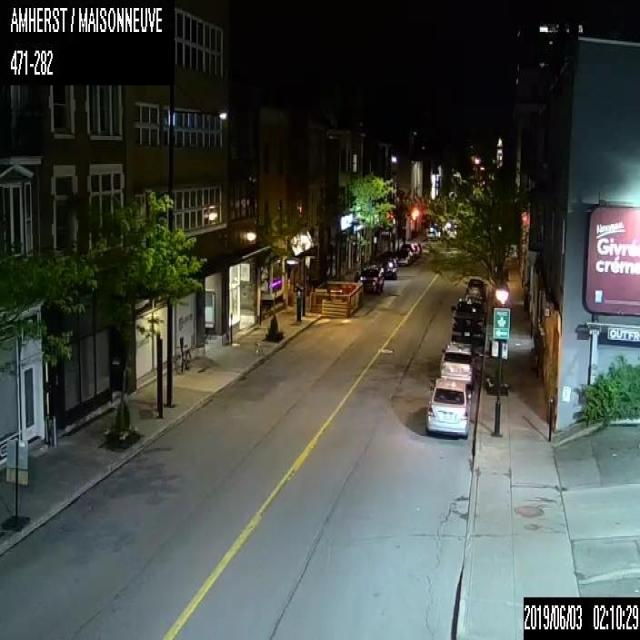vehicle: (426, 377, 470, 437), (449, 296, 486, 342), (439, 341, 478, 383), (358, 264, 383, 294), (464, 276, 487, 298), (381, 258, 397, 278), (396, 247, 412, 264), (464, 293, 482, 302)
